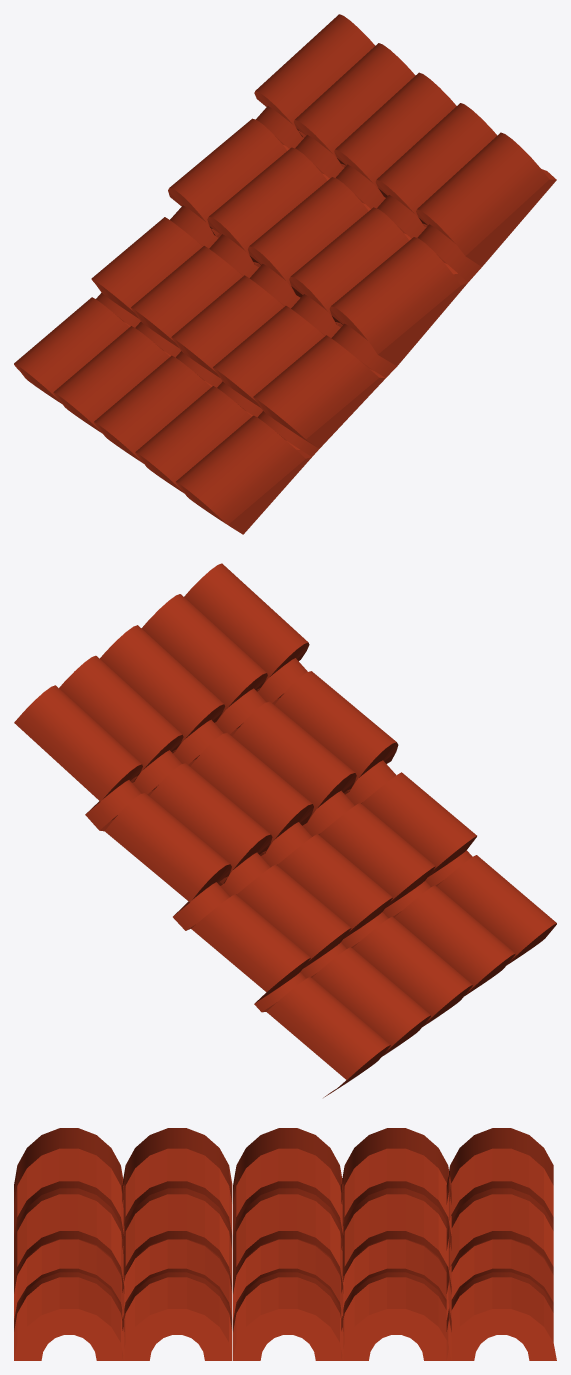
The model's file is RoofSmall.fbx.
3 renders of one model, top to bottom at view 1: azimuth 30°, elevation 25°; view 2: azimuth 150°, elevation 25°; view 3: azimuth 270°, elevation 25°, orthographic. The views are drawn at different scales.
Visible parts, largest first — view 1: Roof_Small; view 2: Roof_Small; view 3: Roof_Small.
Part boxes in pixels (left/top/right/bottom): Roof_Small: left=14, top=14, right=556, bottom=534; Roof_Small: left=14, top=563, right=556, bottom=1097; Roof_Small: left=14, top=1128, right=556, bottom=1360.
Size of the model in its own units: 36.82 by 31.21 by 36.61.
